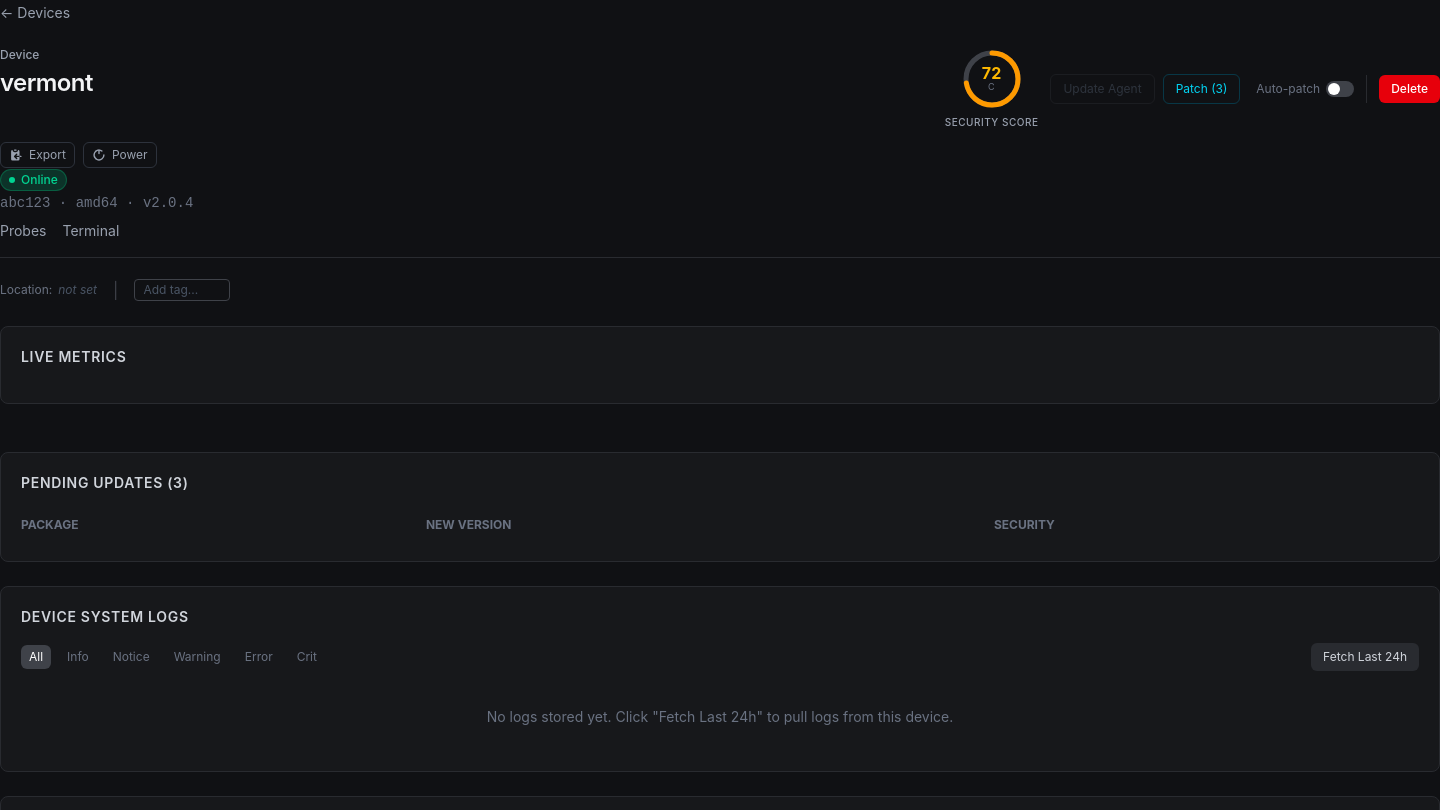
Test: [PATCH-FLOW-001 AC-007] the checkbox is unchecked every time the dialog opens › shows the exact label unchecked, and an abandoned tick does not carry over
Expected: the heading "vermont" is shown, 0,68 -> 93,97
Click the button "Patch (3)": (1201,88) 1163,74 -> 1240,104
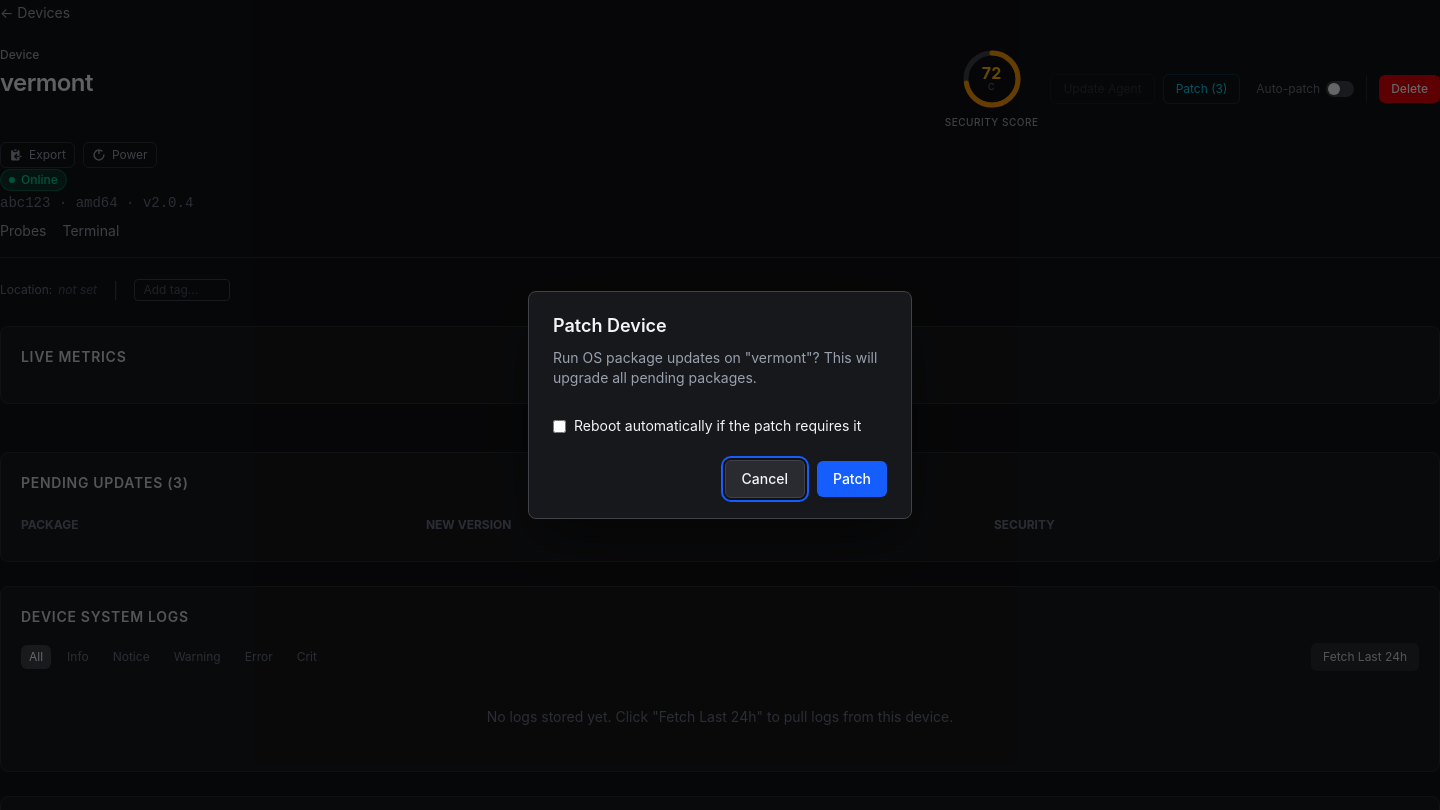
Expected: the checkbox labelled "Reboot automatically if the patch requires it" is not checked
Click the checkbox labelled "Reboot automatically if the patch requires it": (560,426) 553,420 -> 566,432
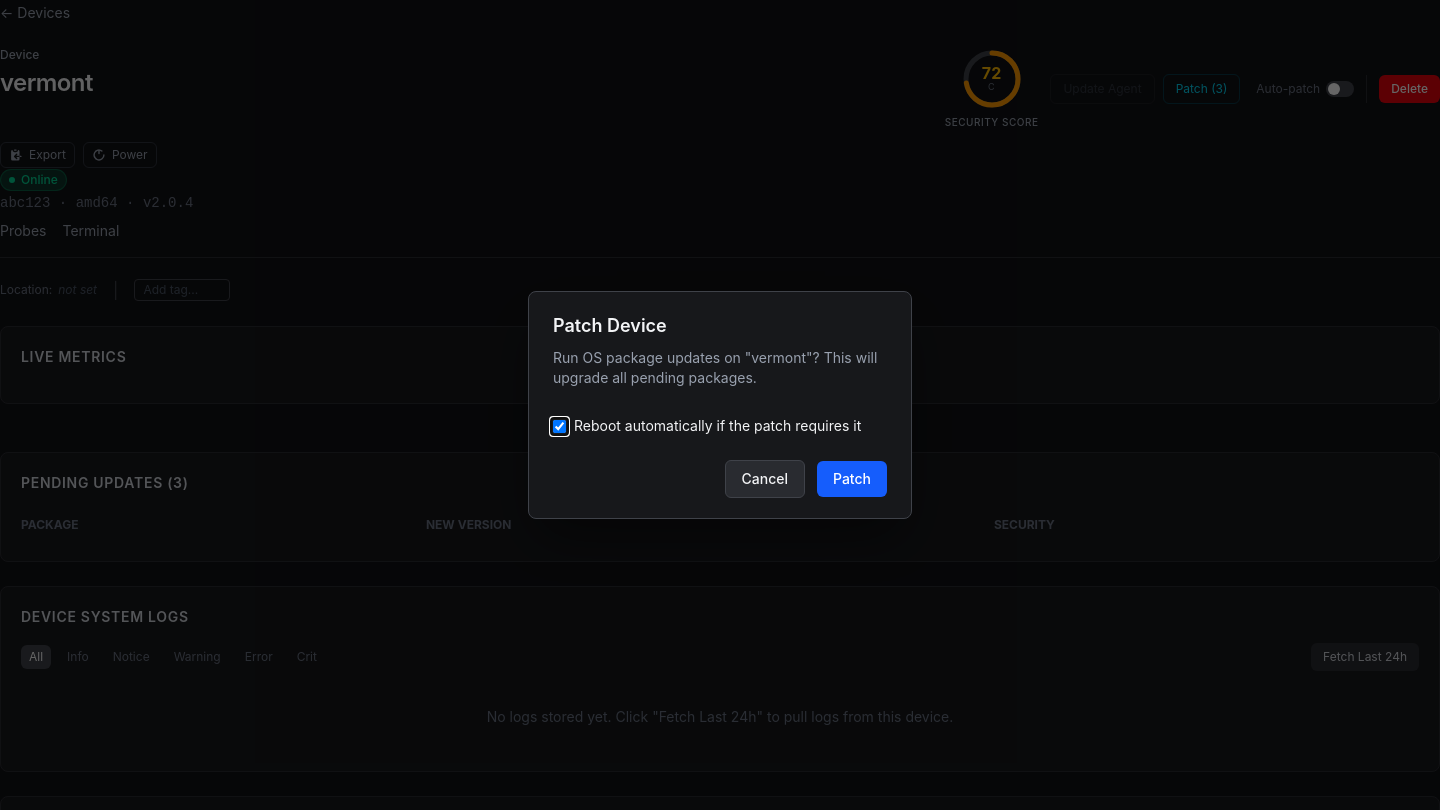
Expected: the checkbox labelled "Reboot automatically if the patch requires it" is checked, 553,420 -> 566,432
Click the button "Cancel": (765,479) 724,460 -> 805,498
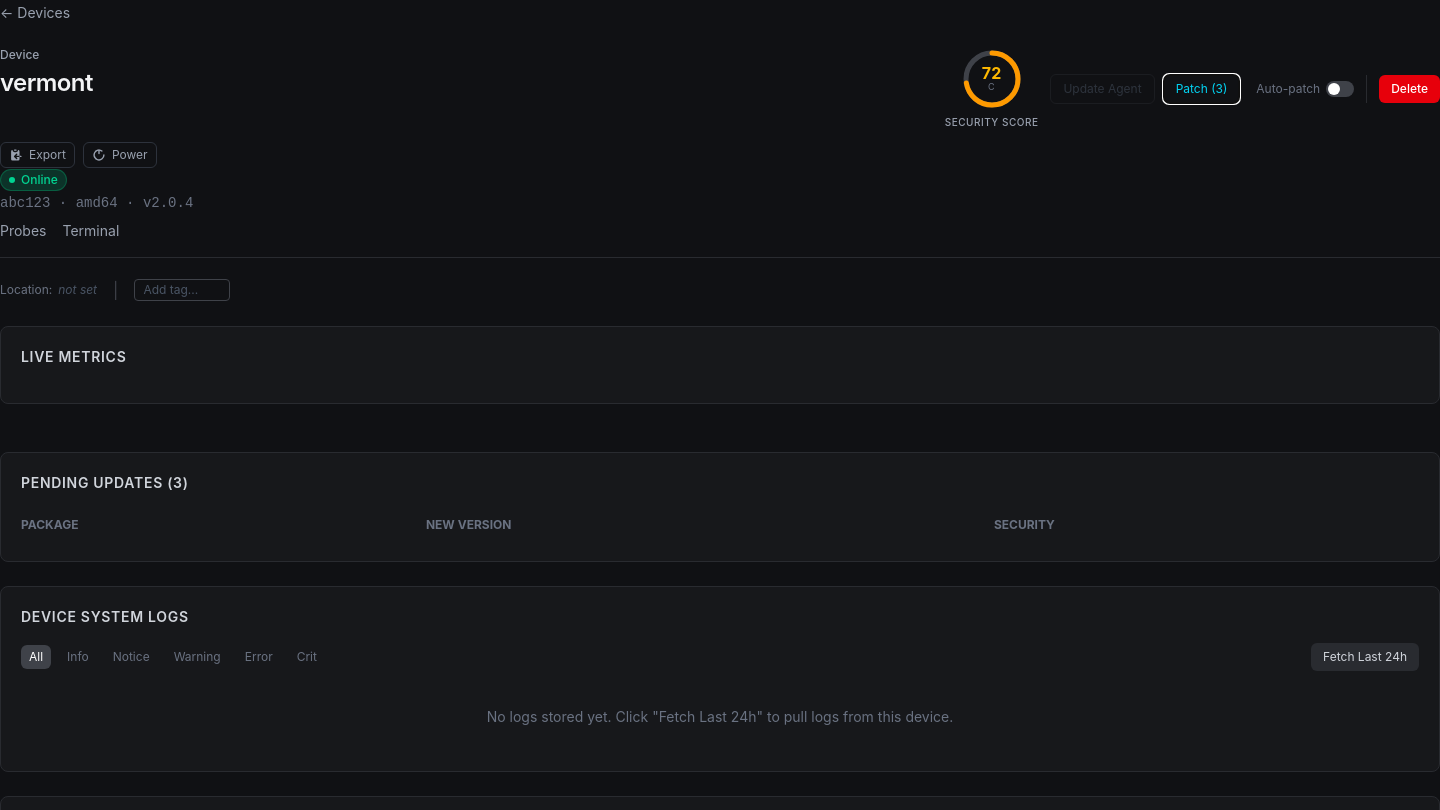
Click the button "Patch (3)": (1201,88) 1163,74 -> 1240,104
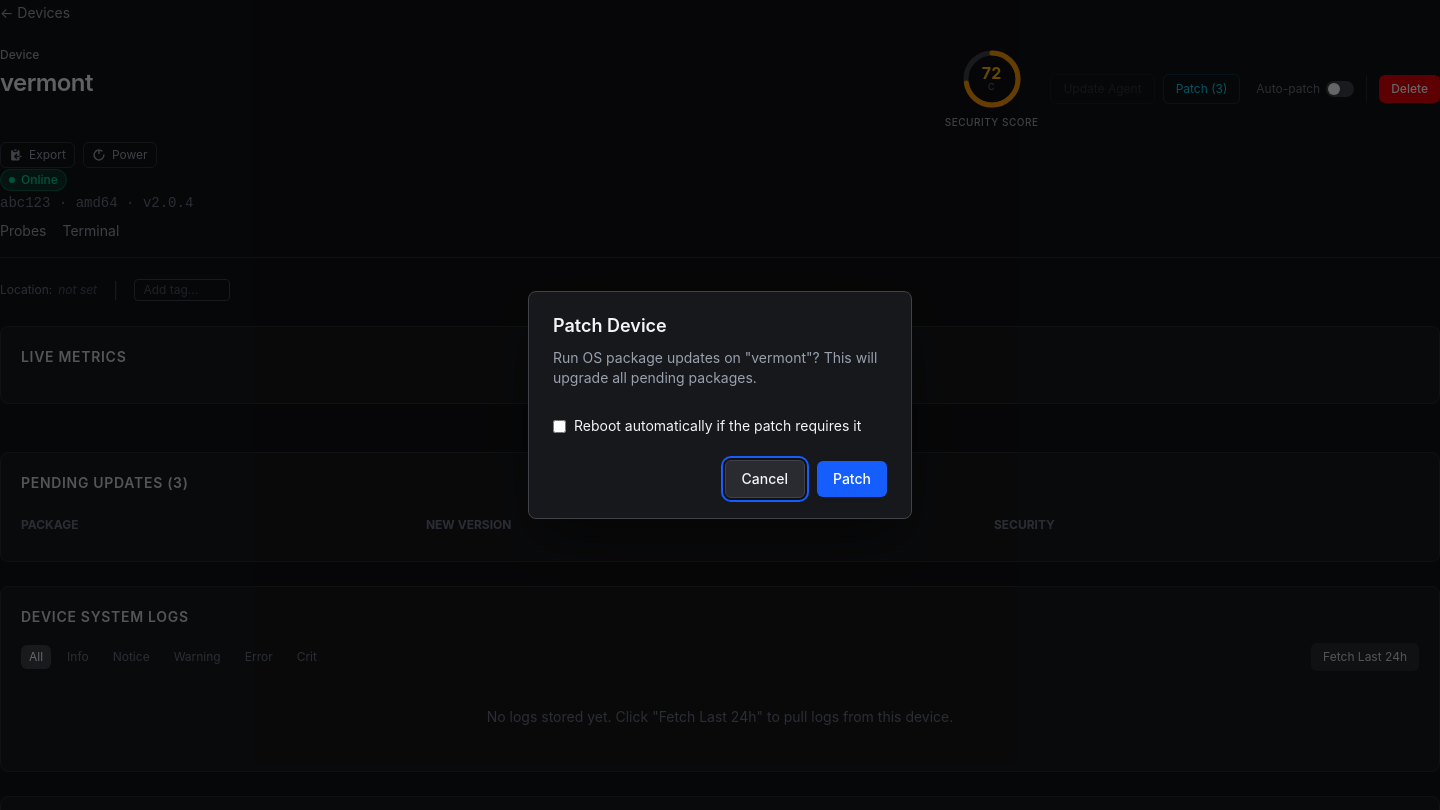
Expected: the checkbox labelled "Reboot automatically if the patch requires it" is not checked, 553,420 -> 566,432
